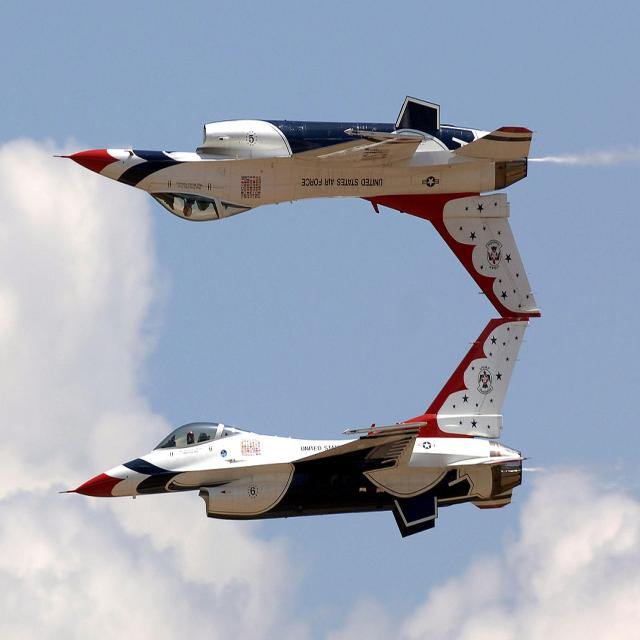MIL_Plane: (52, 94, 542, 319), (58, 319, 533, 539)
